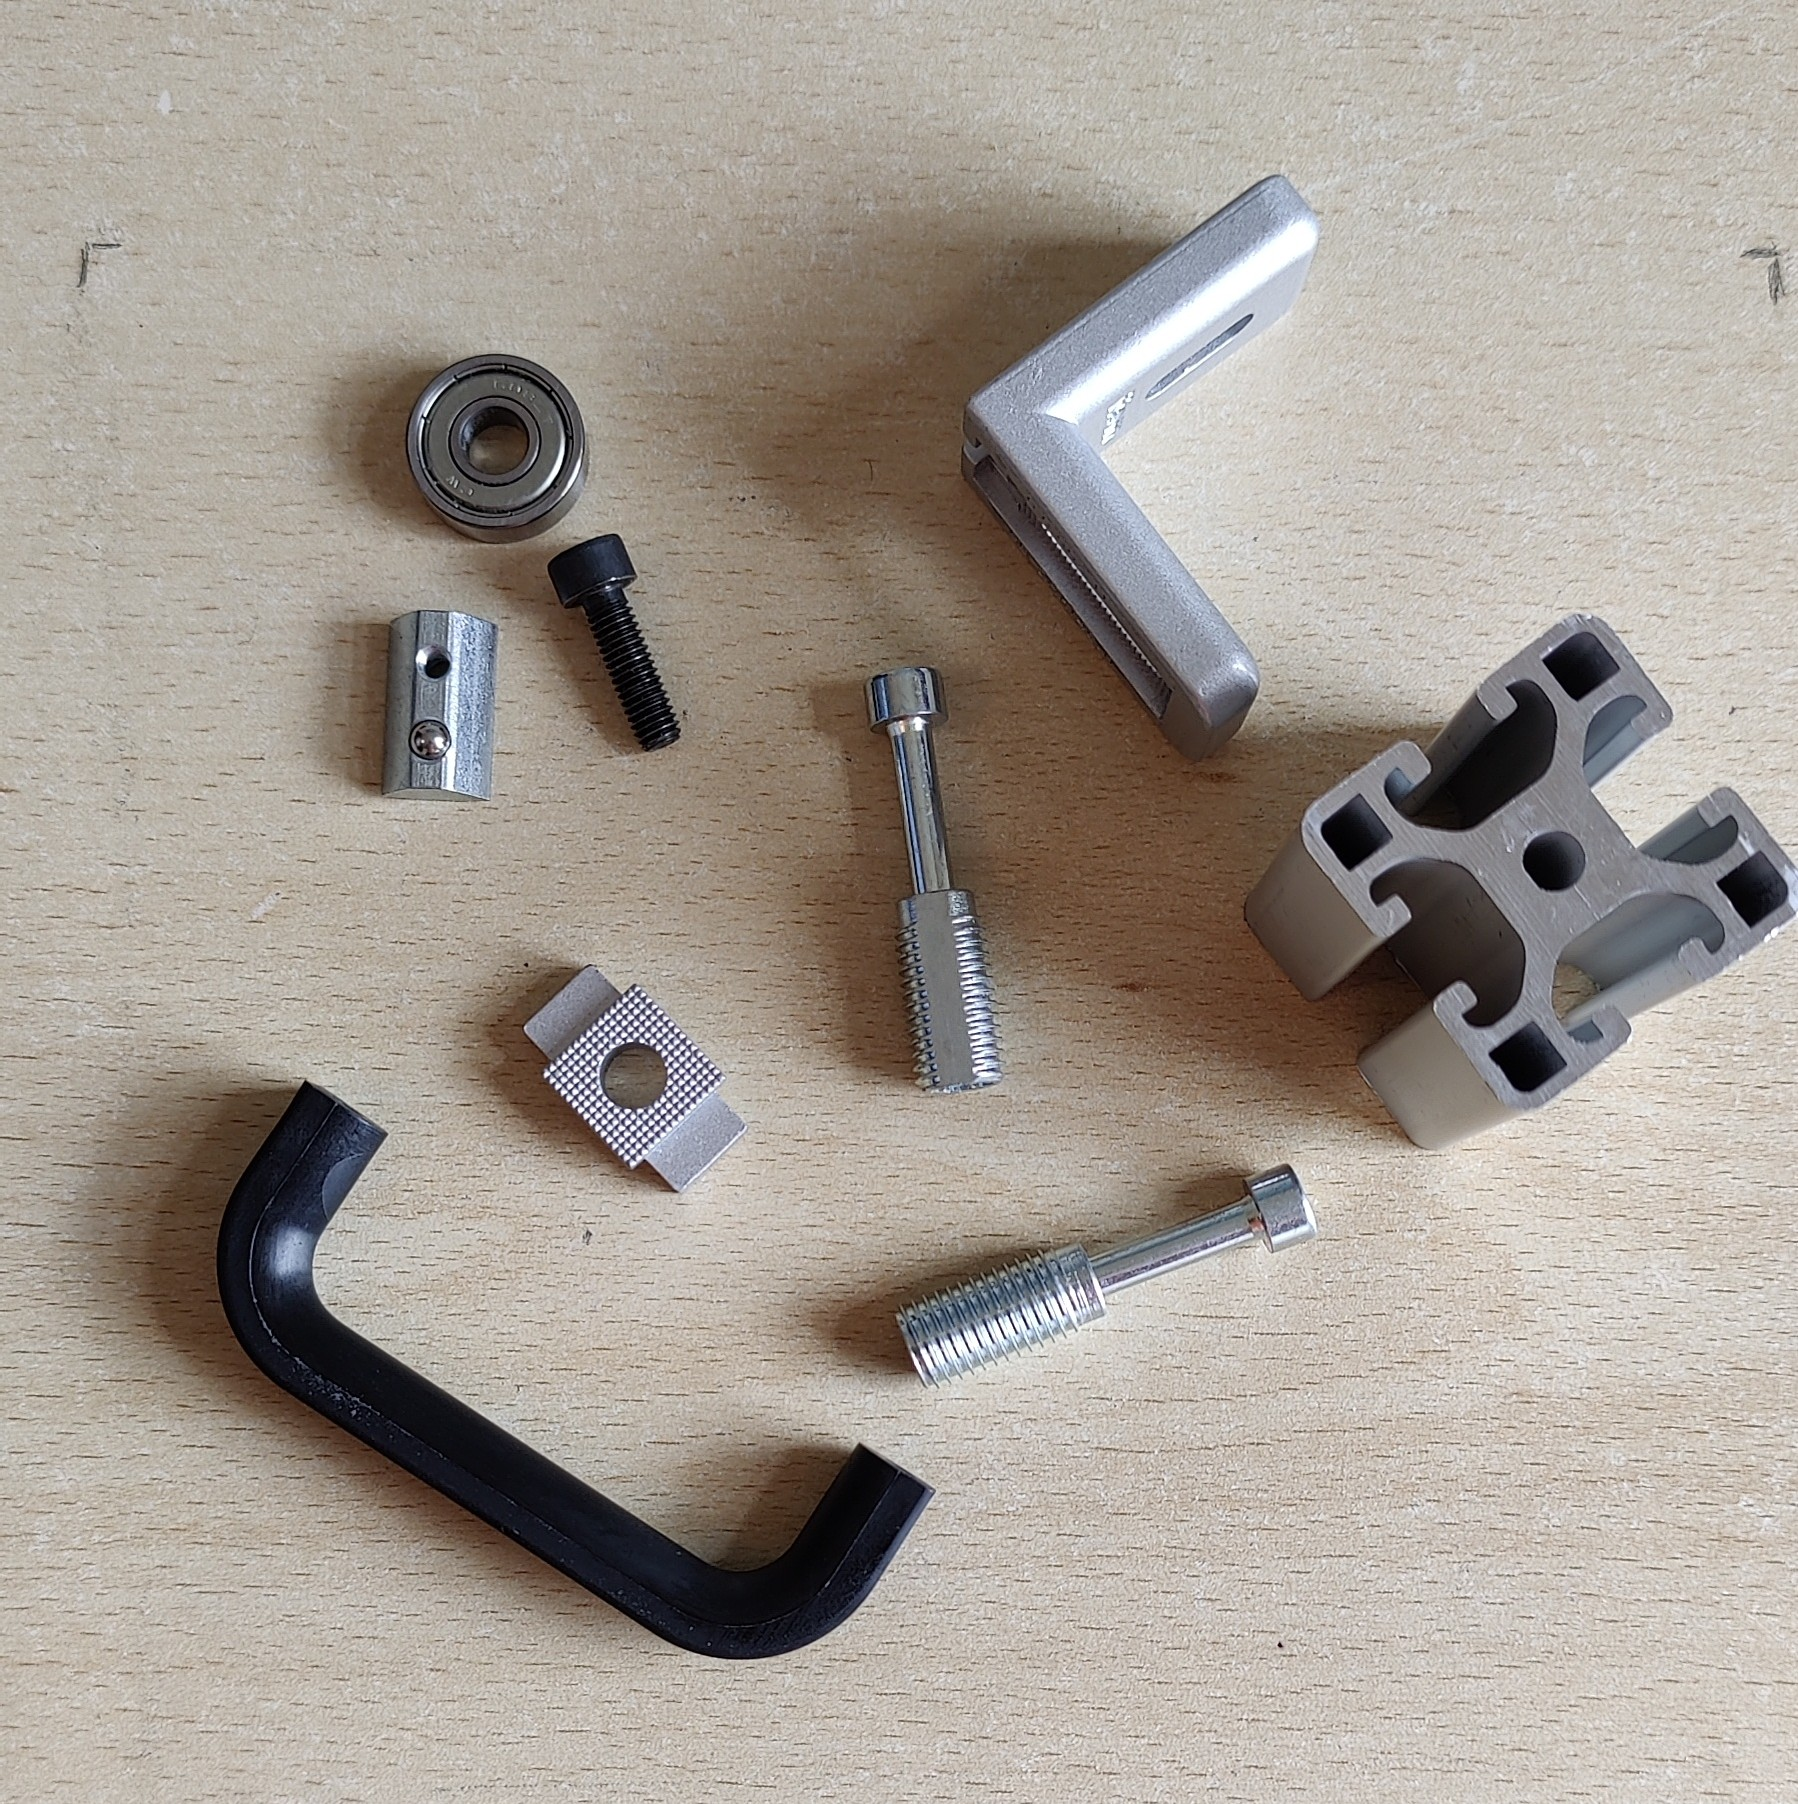Aluminium Extension: (1240, 612, 1798, 1152)
Ball Bearing: (403, 349, 593, 548)
Multiwinkel: (957, 171, 1321, 764)
Pull Handle: (212, 1075, 939, 1662)
Shoulder Socket Head Cap Screw: (891, 1160, 1319, 1389), (861, 663, 1008, 1100)
Socket Head Cap Screw: (543, 530, 685, 756)
T Nut Square: (520, 960, 756, 1197)
T Spring Nut: (377, 606, 502, 805)
